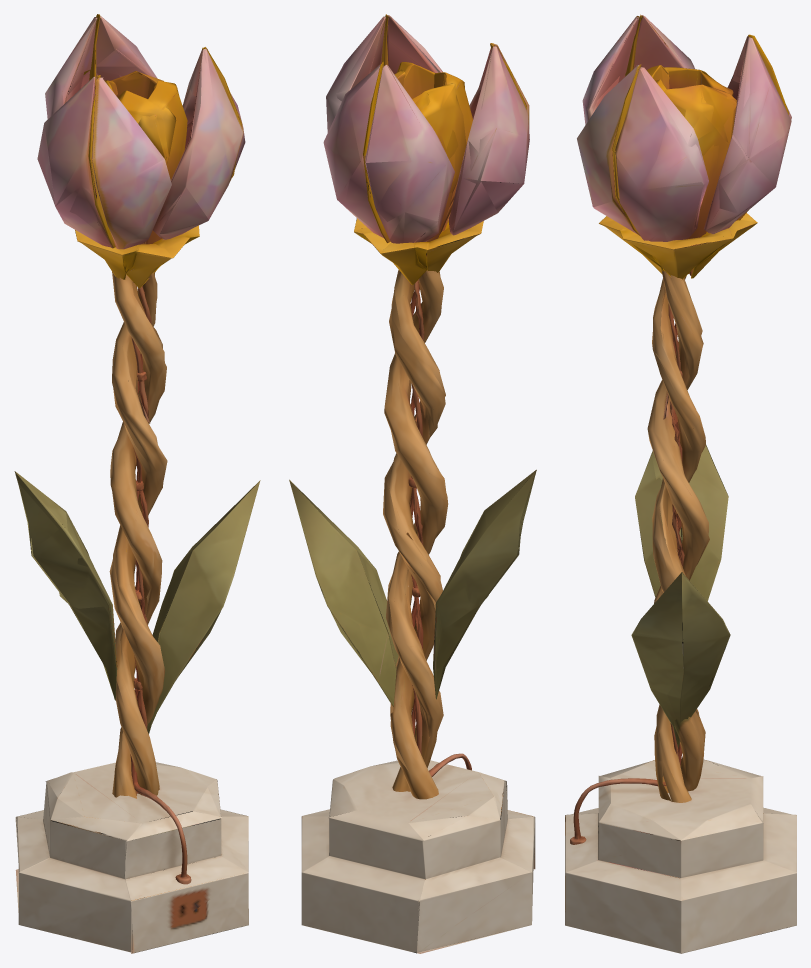
Rendered from lanterne_tulipe_test.glb.
3 renders of one model, left to right at view 1: azimuth 30°, elevation 25°; view 2: azimuth 150°, elevation 25°; view 3: azimuth 270°, elevation 25°, orthographic.
Parts seen in each view (by area): view 1: pied, petale_mesh1, petale_mesh2, petale_mesh0, Coeur; view 2: pied, petale_mesh0, petale_mesh1, Coeur, petale_mesh2; view 3: pied, petale_mesh2, petale_mesh0, Coeur, petale_mesh1.
Part boxes in pixels (x1,y1,x2,y2): pied: (14,225,260,953); petale_mesh1: (37,75,171,249); petale_mesh2: (153,47,245,239); petale_mesh0: (45,14,157,118); Coeur: (95,71,187,244); pied: (289,218,536,953); petale_mesh0: (323,62,454,243); petale_mesh1: (448,43,529,235); Coeur: (394,62,472,241); petale_mesh2: (326,14,442,132); pied: (565,213,796,953); petale_mesh2: (577,64,708,241); petale_mesh0: (704,34,791,234); Coeur: (646,65,736,276); petale_mesh1: (582,14,694,124).
Size of the model in its own units: 0.54 by 1.8 by 0.4385.
1 material, 1 textured.
